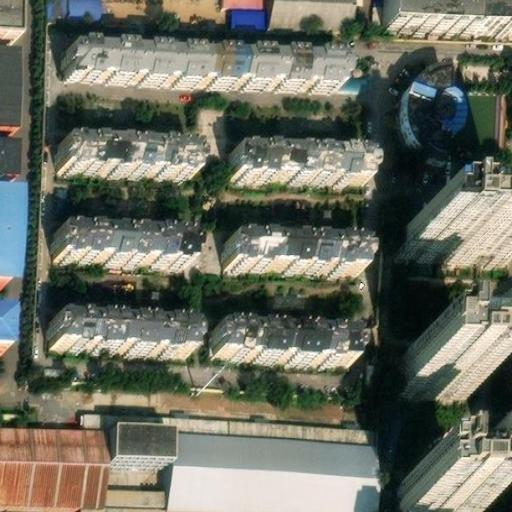building: (174, 428, 376, 506), (86, 407, 376, 431), (195, 44, 337, 89), (209, 320, 345, 358), (407, 56, 453, 143), (401, 461, 476, 510), (77, 501, 375, 512), (408, 331, 479, 376), (404, 220, 512, 247), (62, 37, 130, 78), (47, 221, 120, 259), (44, 312, 120, 348), (129, 41, 197, 81), (217, 230, 289, 267), (288, 234, 359, 271), (0, 178, 26, 276), (118, 225, 185, 263), (118, 316, 187, 351), (292, 146, 362, 180), (53, 136, 122, 170), (110, 416, 177, 451), (223, 143, 293, 176), (119, 140, 185, 174), (0, 39, 19, 128), (0, 298, 18, 345)
